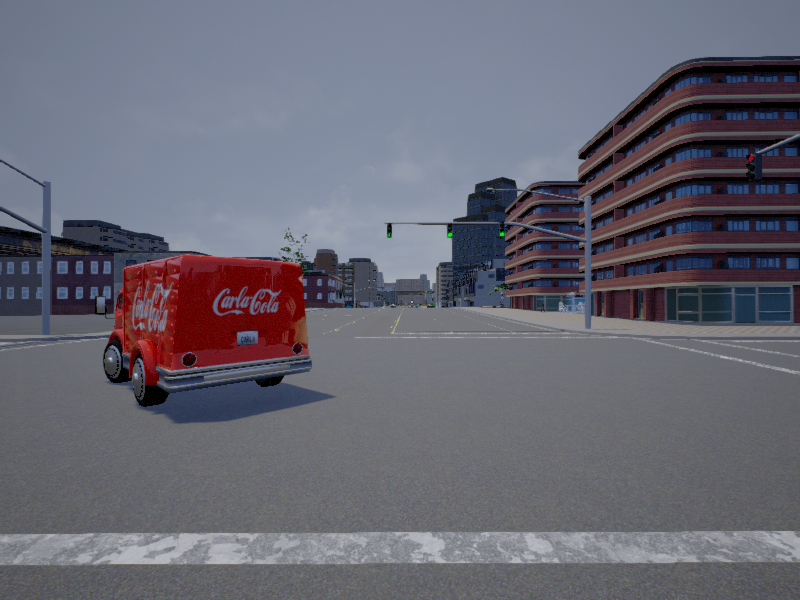Benign: (101, 257, 313, 404)
